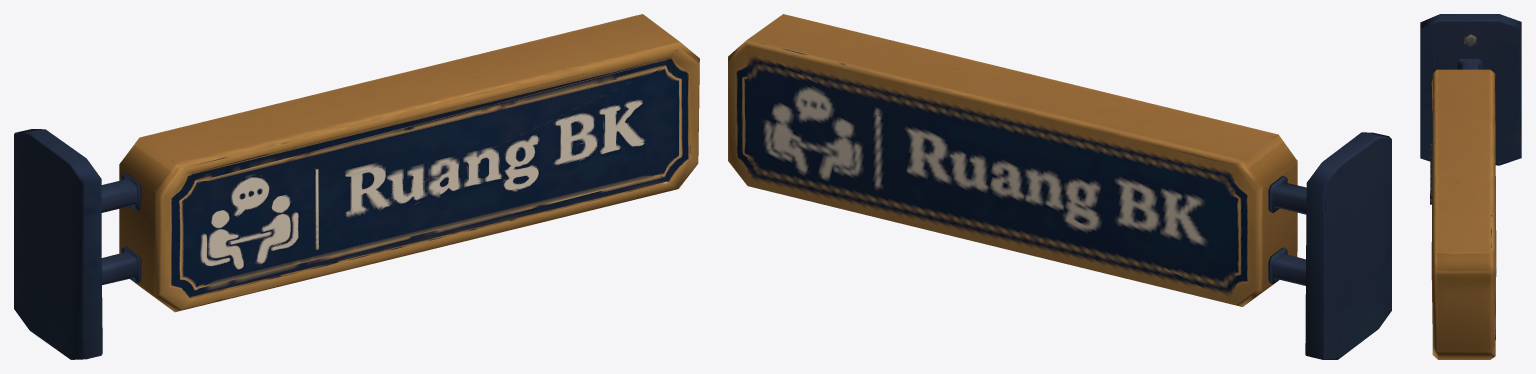
Rendered from Meshy_AI_Ruang_BK_20261111_texture.fbx.
The picture shows the model from 3 angles, left to right: view 1: azimuth 30°, elevation 25°; view 2: azimuth 150°, elevation 25°; view 3: azimuth 270°, elevation 25°; orthographic projection. The views are drawn at different scales.
Visible parts, largest first — view 1: geometry_0; view 2: geometry_0; view 3: geometry_0.
Part boxes in pixels (x1,y1,x2,y2): geometry_0: (14, 14, 699, 359); geometry_0: (728, 14, 1391, 359); geometry_0: (1420, 14, 1521, 359).
Size of the model in its own units: 95.36 by 28.71 by 18.12.
Materials: 1 (1 with a texture image).
